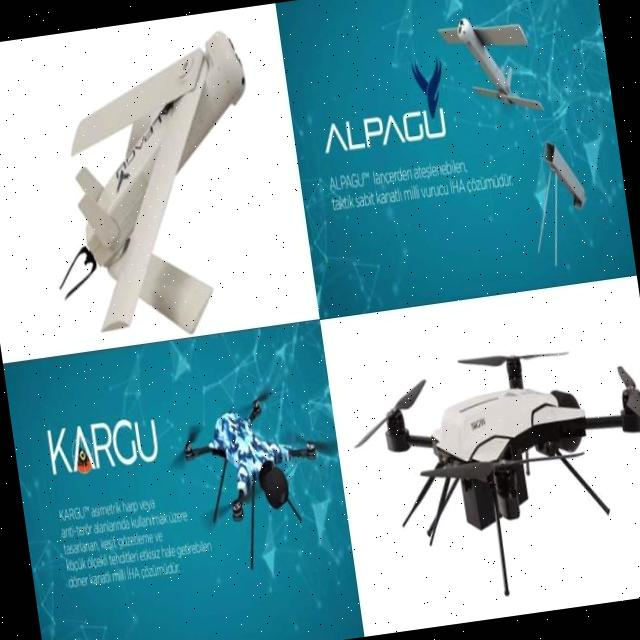drone: (338, 310, 640, 580), (160, 372, 350, 576)
